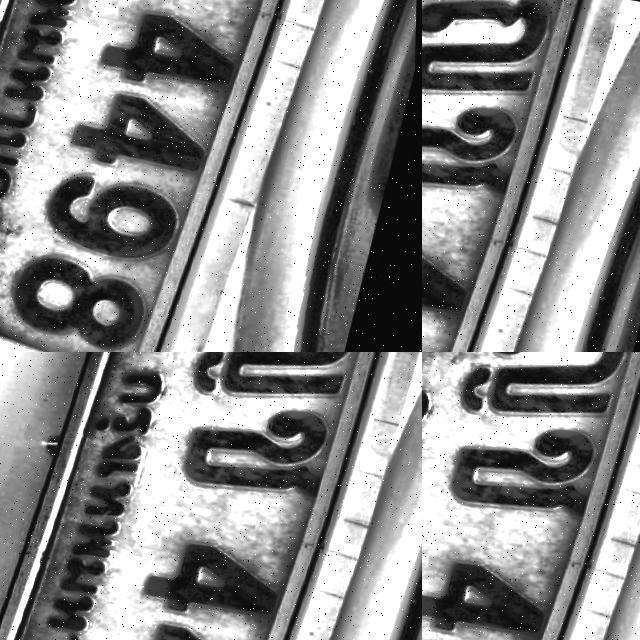license-plate: (422, 352, 640, 640), (292, 352, 422, 569), (194, 0, 422, 72), (597, 2, 640, 145)
